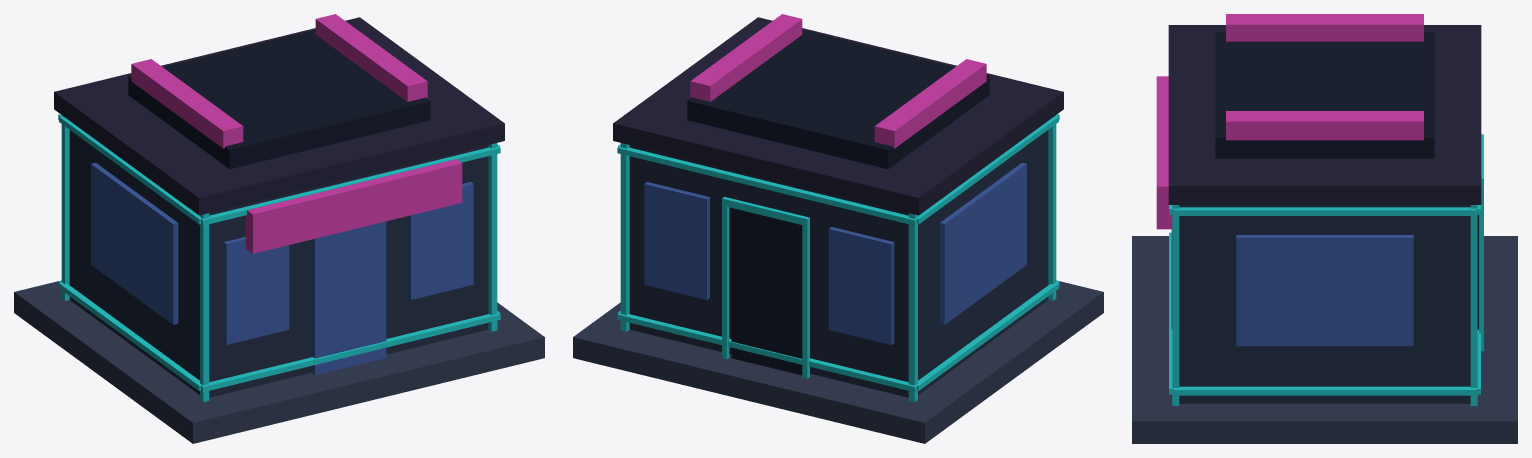
The model's file is Neon_ArcadeKiosk_Standard.glb.
3 views of the same model, side by side, from view 1: azimuth 30°, elevation 25°; view 2: azimuth 150°, elevation 25°; view 3: azimuth 270°, elevation 25° (orthographic). The views are drawn at different scales.
Parts seen in each view (by area): view 1: Neon_ArcadeKiosk_Standard; view 2: Neon_ArcadeKiosk_Standard; view 3: Neon_ArcadeKiosk_Standard.
Boxes of the visible parts, x1,y1,x2,y2 form: Neon_ArcadeKiosk_Standard: (14, 14, 544, 443); Neon_ArcadeKiosk_Standard: (573, 14, 1103, 443); Neon_ArcadeKiosk_Standard: (1132, 14, 1517, 443).
Bounding box in the file's own units: 4.2 × 3 × 3.7.
